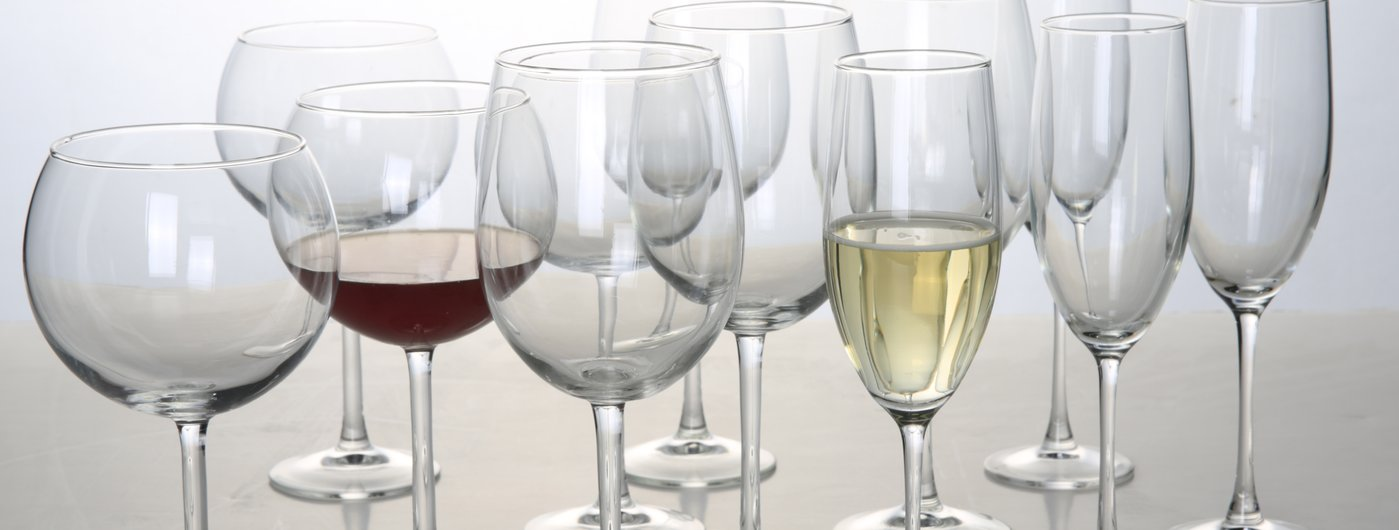Nonrec_Glass: (481, 34, 743, 529), (28, 108, 342, 521), (637, 1, 895, 500), (273, 69, 558, 519), (210, 2, 462, 504), (831, 37, 1034, 528), (1034, 5, 1196, 518), (1193, 1, 1341, 526)
